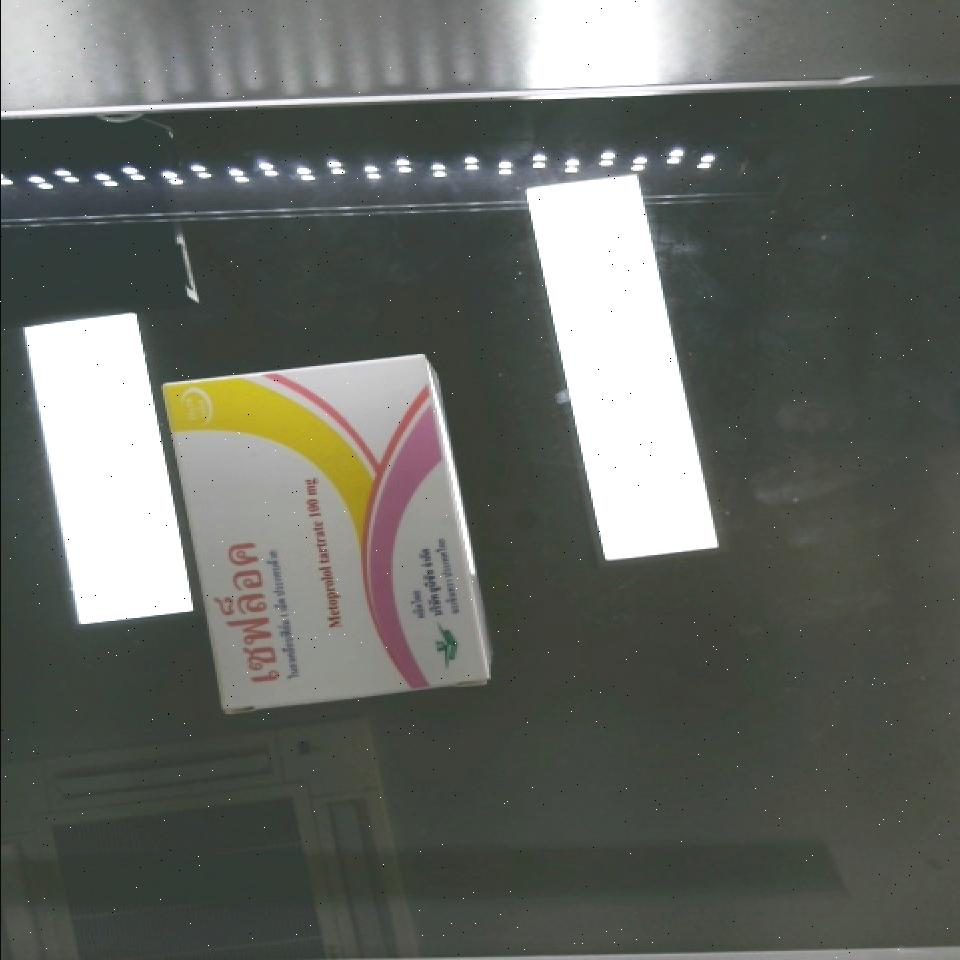medicine_box: (156, 334, 489, 730)
medicine_label_obb: (191, 521, 307, 707)
